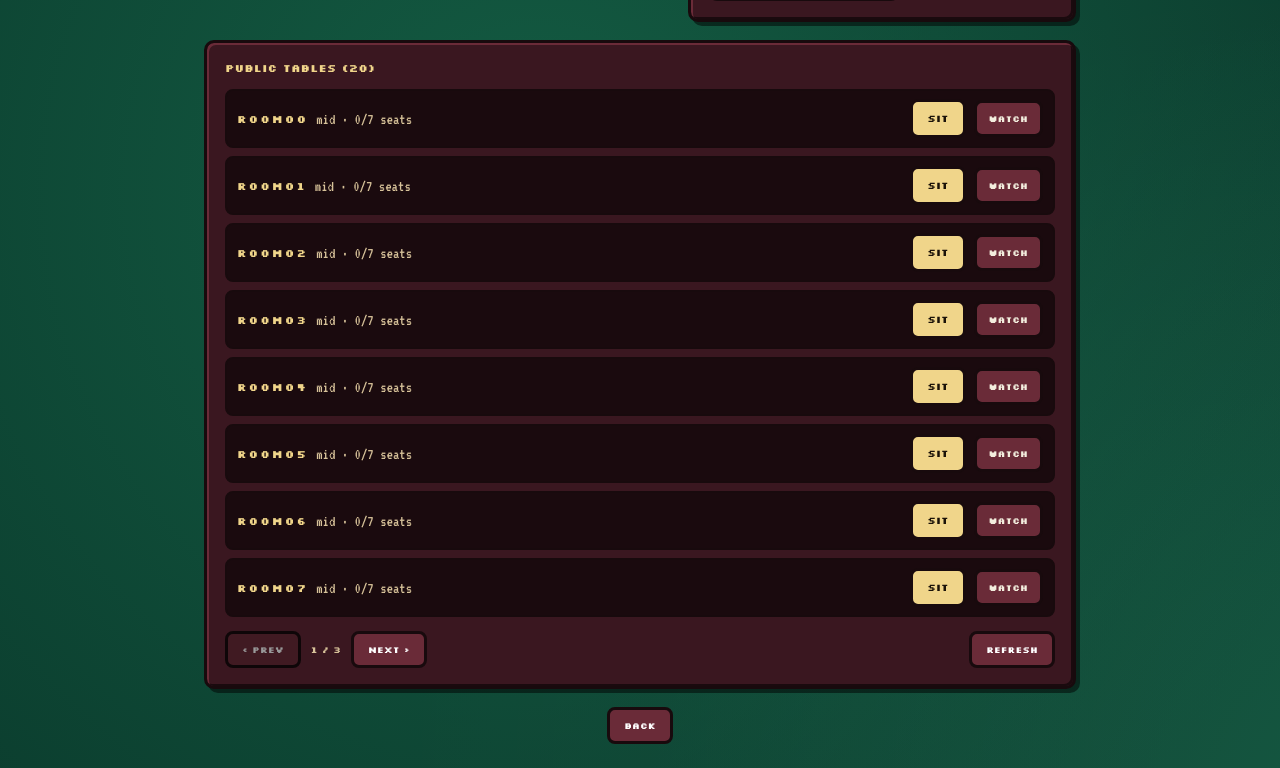
Scenario: the public list paginates past eight tables
This screenshot has width=1280, height=768.
(page scrolled)
Check: the heading "Public tables (20)" is shown, box [225,61,375,75]
Check: the text "ROOM00" is shown, box [237,112,308,126]
Click the button "Next ›" at coordinates (389, 650), box [351,631,427,668]
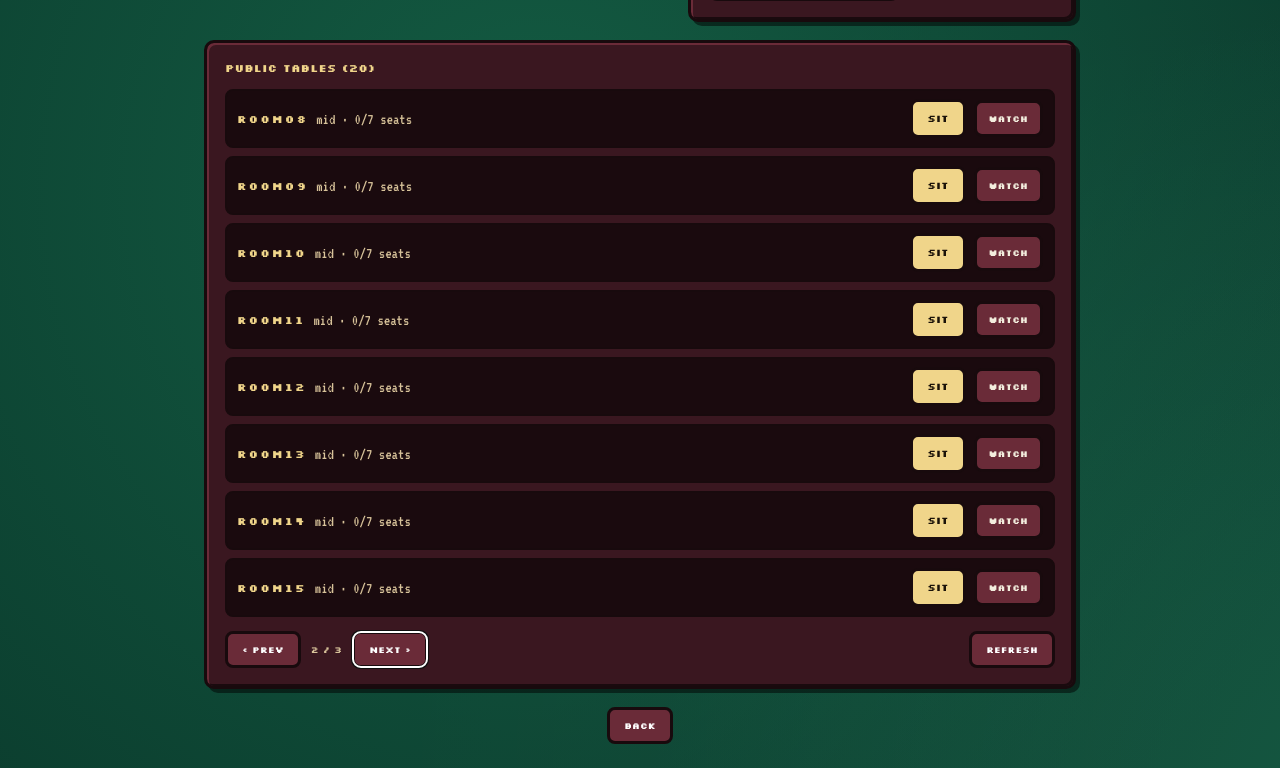
Check: the text "ROOM08" is shown, box [237,112,308,126]
Check: the text "ROOM00" is gone
Click the button "Next ›" at coordinates (390, 650), box [352,631,428,668]
(page scrolled)
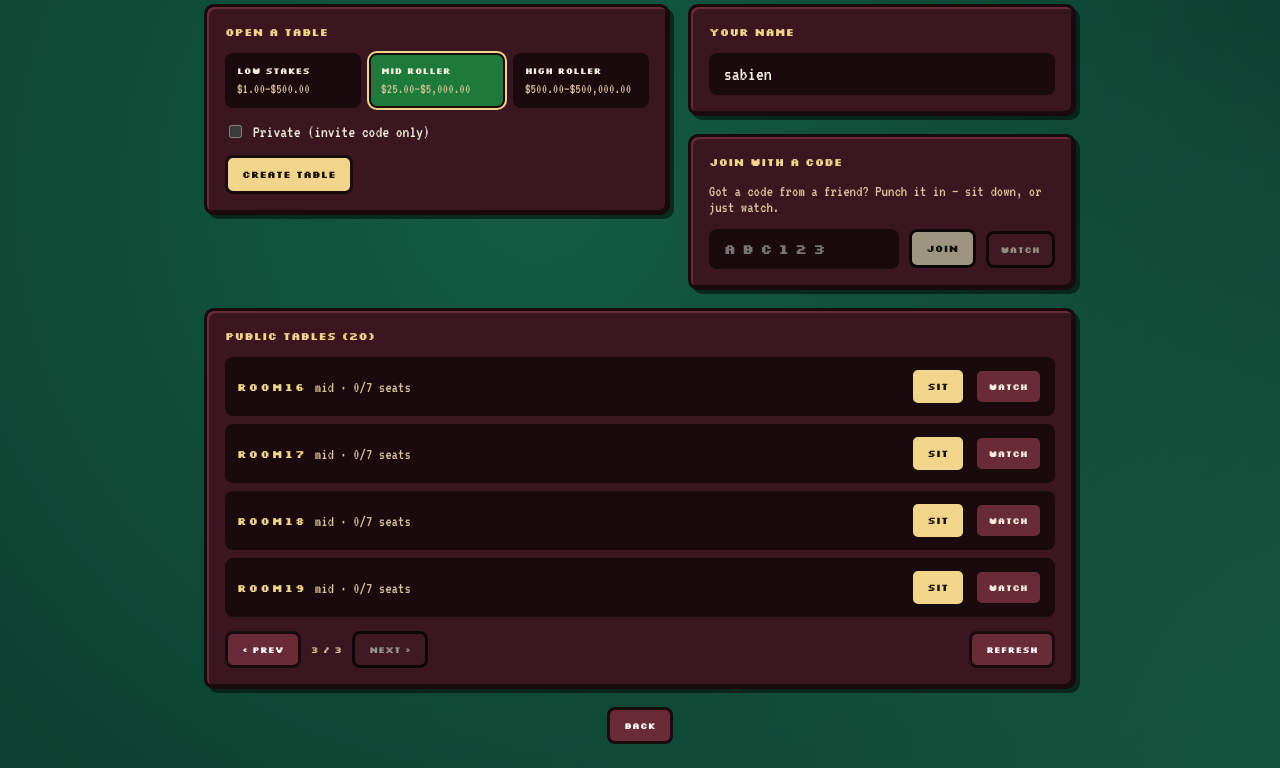
Check: the text "ROOM16" is shown, box [237,380,307,394]
Check: the button "Next ›" is disabled, box [352,631,428,668]
Click the button "‹ Prev" at coordinates (263, 650), box [225,631,301,668]
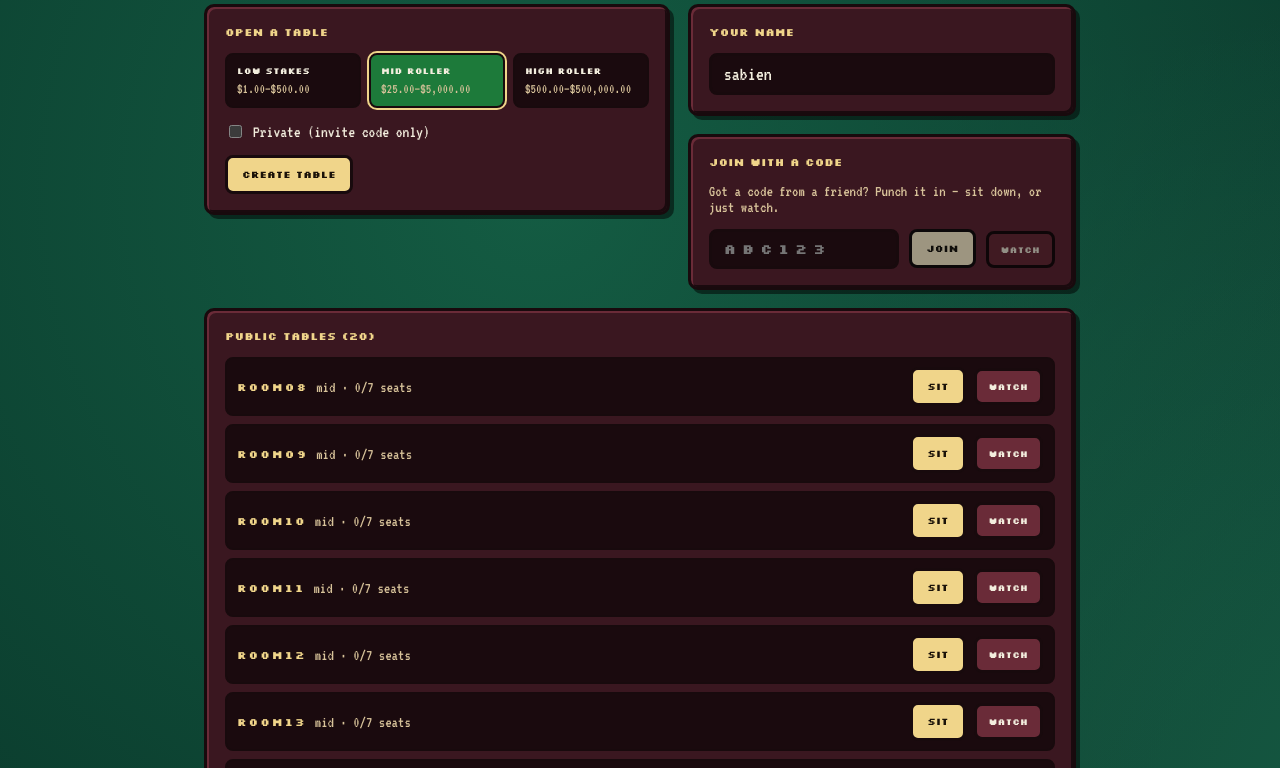
Check: the text "ROOM08" is shown, box [237,380,308,394]
